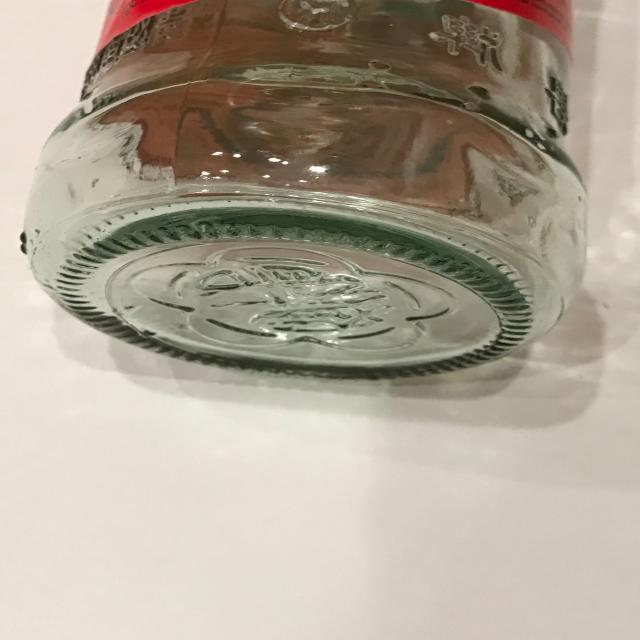glass: (19, 0, 591, 381)
